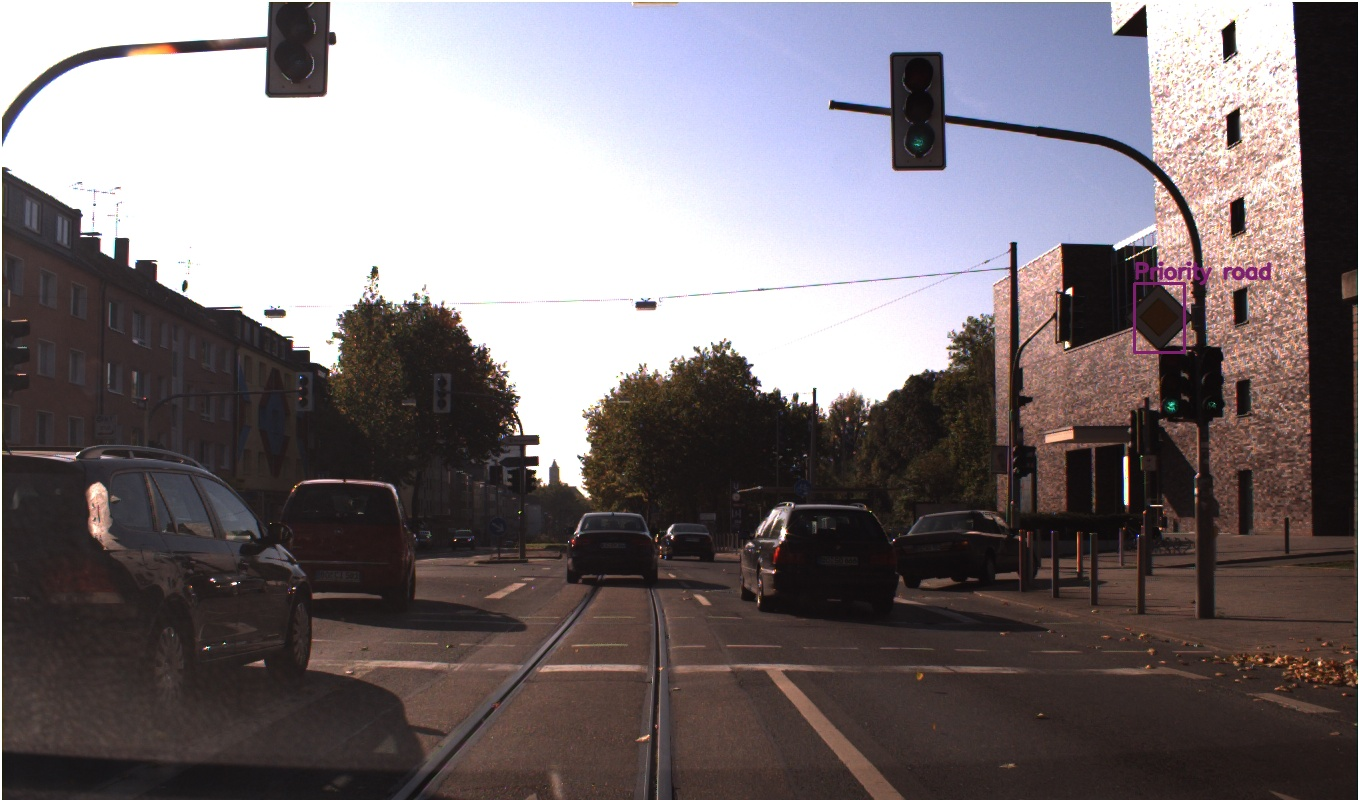Turn left ahead: (946, 373, 967, 400)
Yield: (941, 339, 972, 372)
